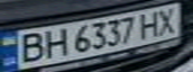3: (87, 20, 109, 51), (103, 17, 124, 48)
6: (69, 22, 93, 54)
7: (118, 14, 142, 43)
B: (9, 29, 51, 64)
H: (36, 26, 72, 59), (133, 9, 166, 39)
X: (151, 7, 184, 35)
